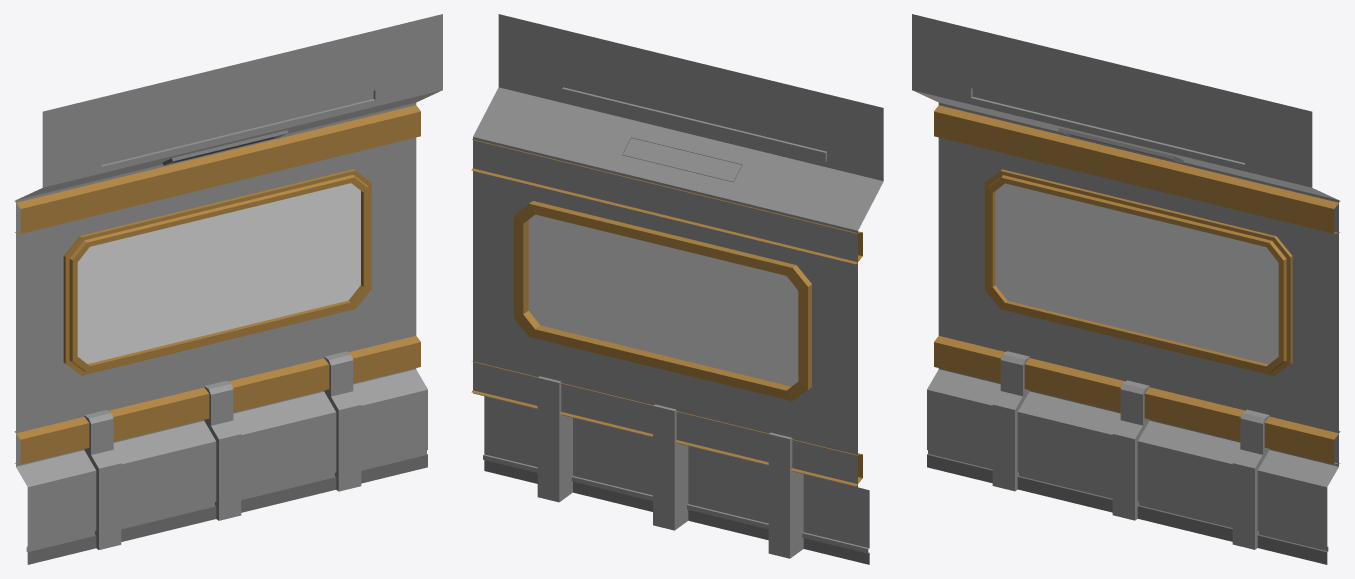
Rendered from Window_Wall_SideB.fbx.
3 views of the same model, side by side, from view 1: azimuth 30°, elevation 25°; view 2: azimuth 150°, elevation 25°; view 3: azimuth 330°, elevation 25° (orthographic). The views are drawn at different scales.
Visible parts, largest first — view 1: Window_Wall_SideB; view 2: Window_Wall_SideB; view 3: Window_Wall_SideB.
Boxes of the visible parts, x1=… form: Window_Wall_SideB: x1=14, y1=14, x2=442, y2=564; Window_Wall_SideB: x1=471, y1=14, x2=883, y2=564; Window_Wall_SideB: x1=912, y1=14, x2=1340, y2=564.
Bounding box in the file's own units: 400 × 443 × 53.55.
